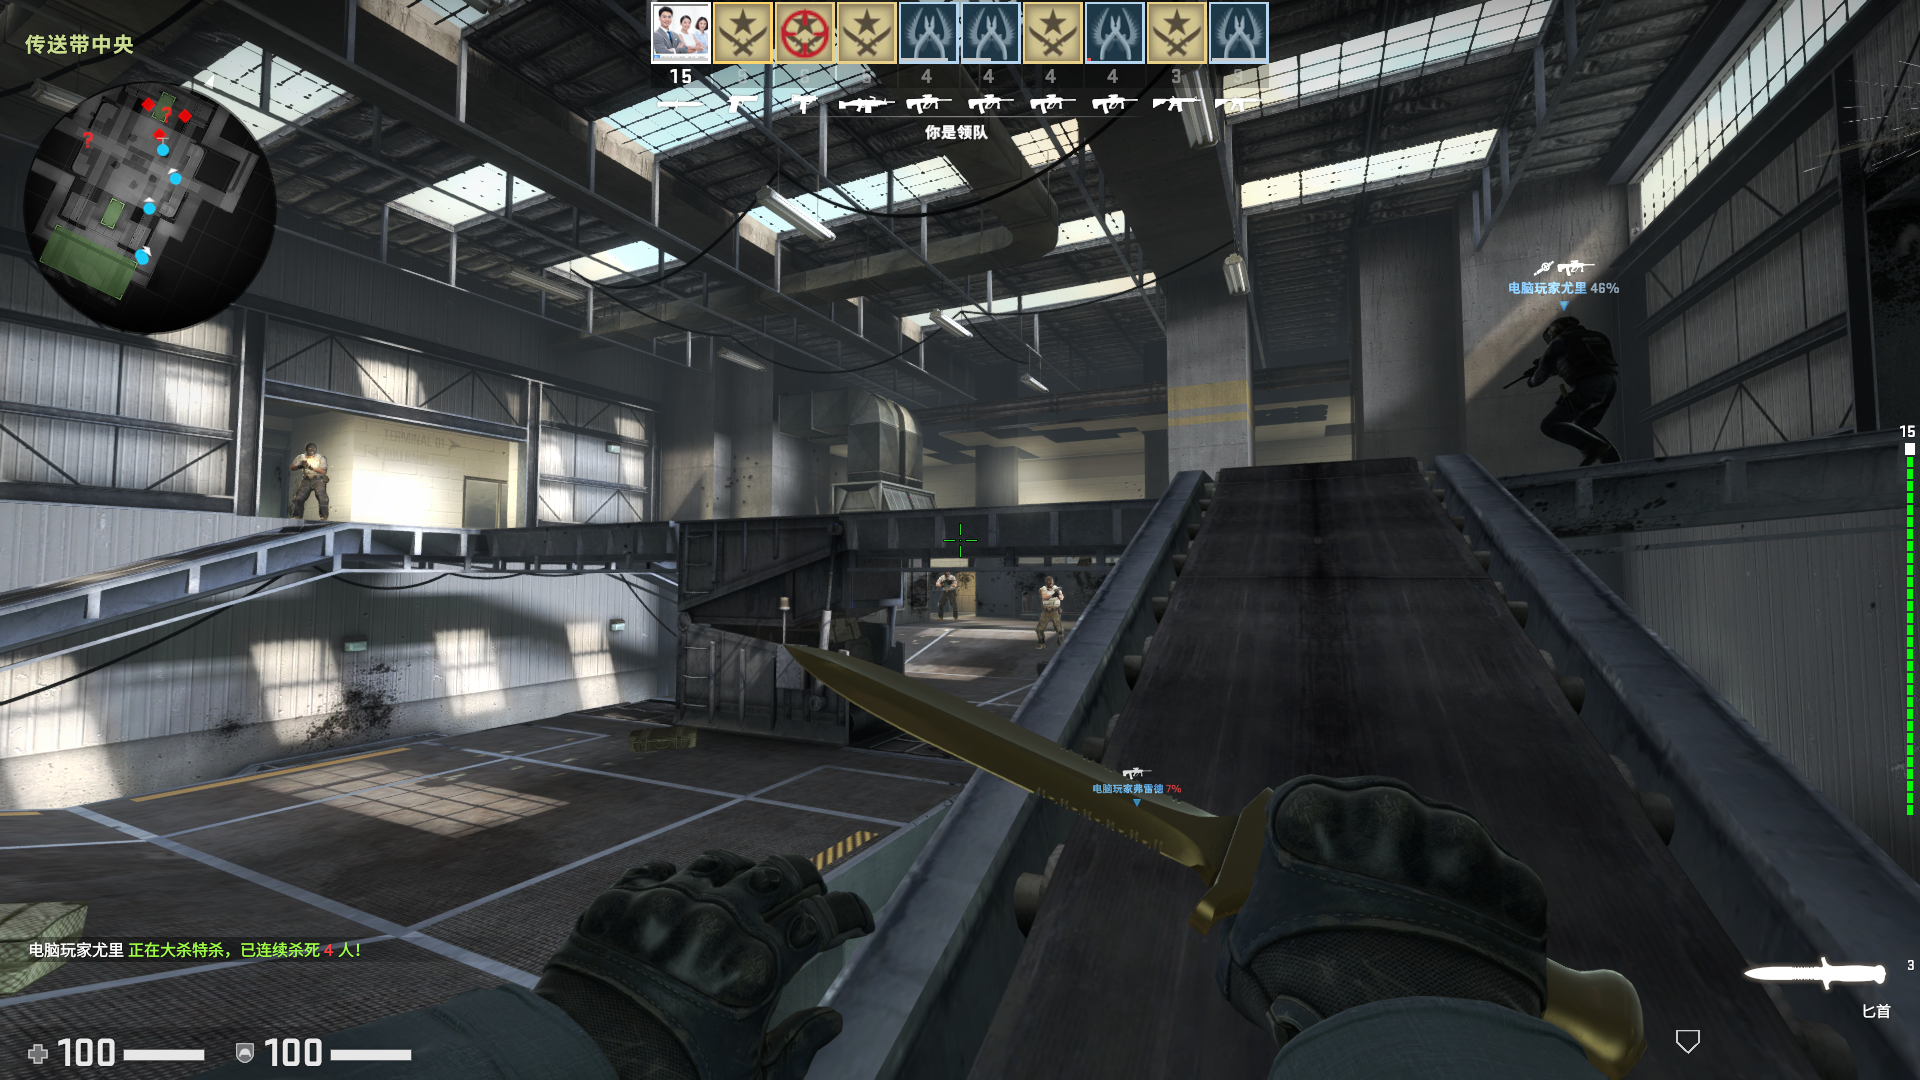person: (288, 440, 336, 519), (927, 565, 967, 627), (1030, 574, 1061, 644)
